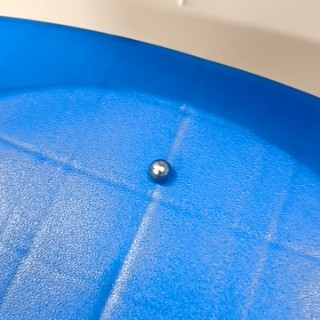ironball: (142, 152, 177, 181)
